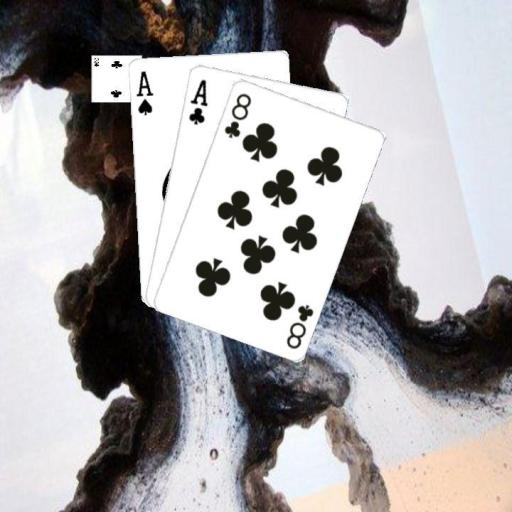8C: (283, 300, 315, 351), (221, 90, 253, 140)
AC: (185, 76, 209, 126)
AS: (133, 67, 155, 116)
